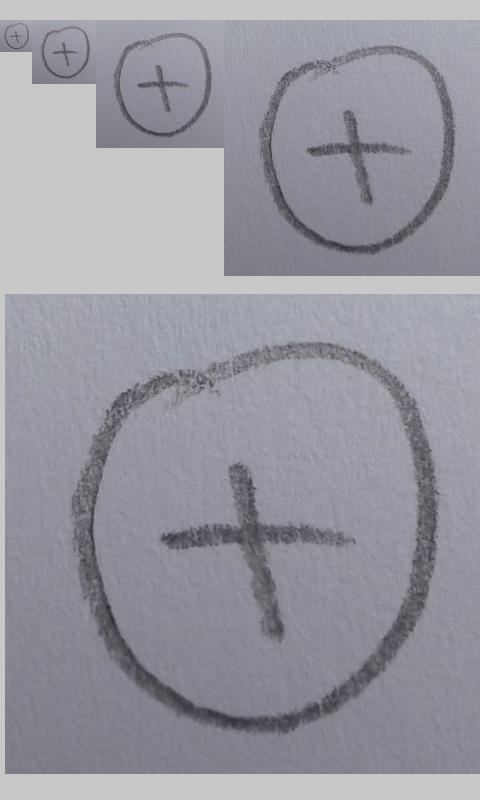button: (68, 340, 436, 734), (261, 42, 456, 257), (113, 33, 212, 138), (41, 26, 91, 79), (4, 22, 29, 49)
